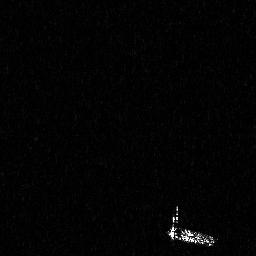ship: (164, 205, 219, 250)
